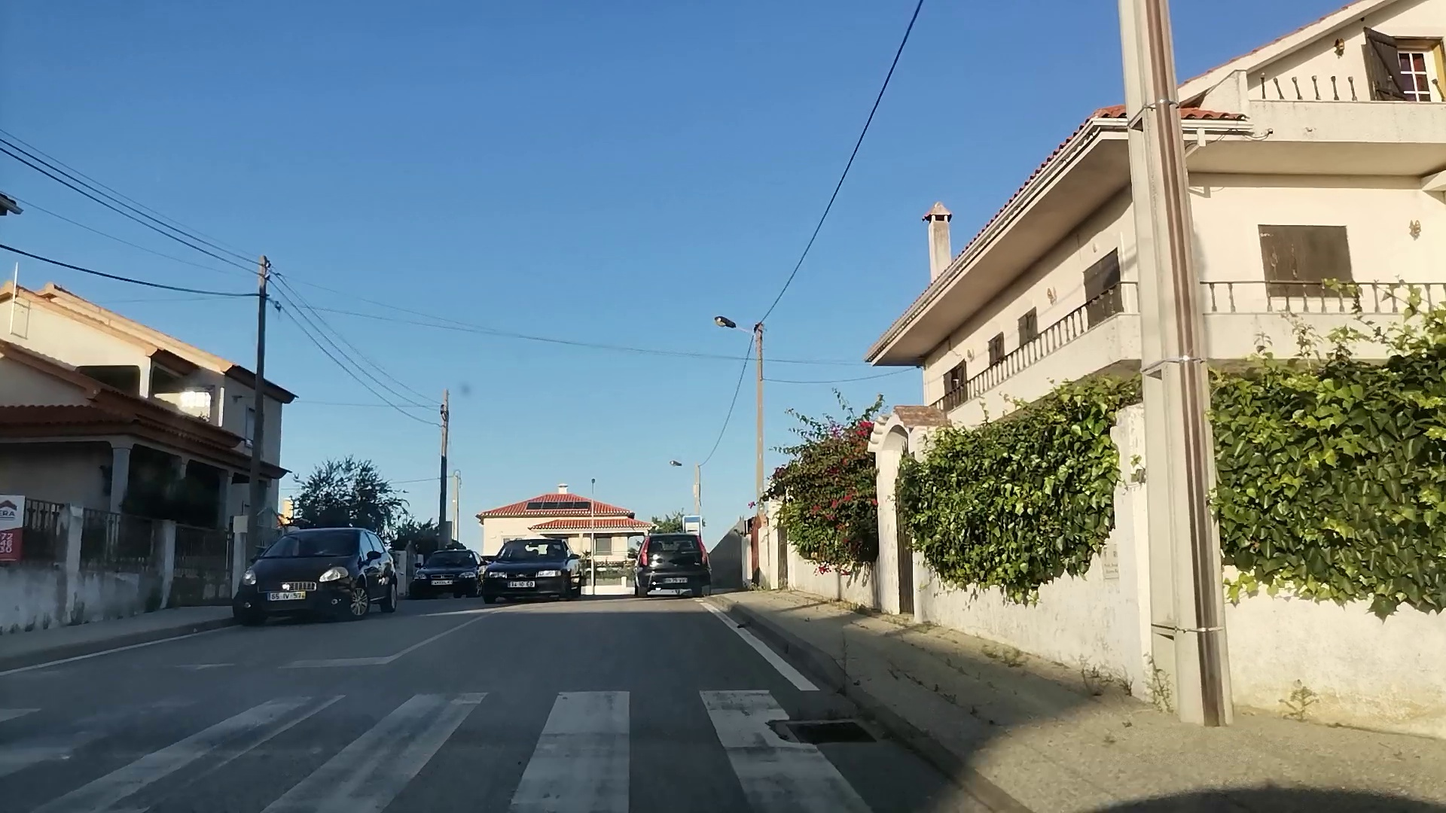Stairs: (0, 683, 887, 809)
